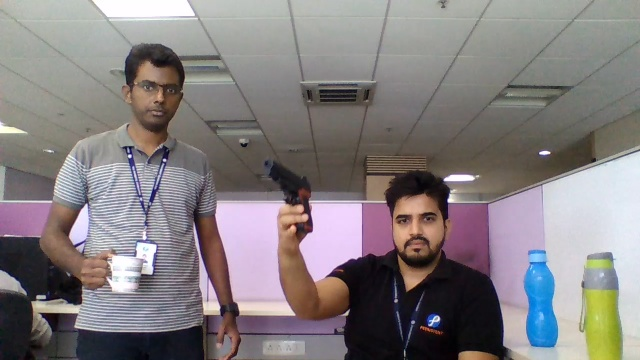gun: (262, 158, 310, 202)
